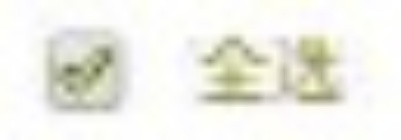CheckBox: (1, 1, 400, 139)
